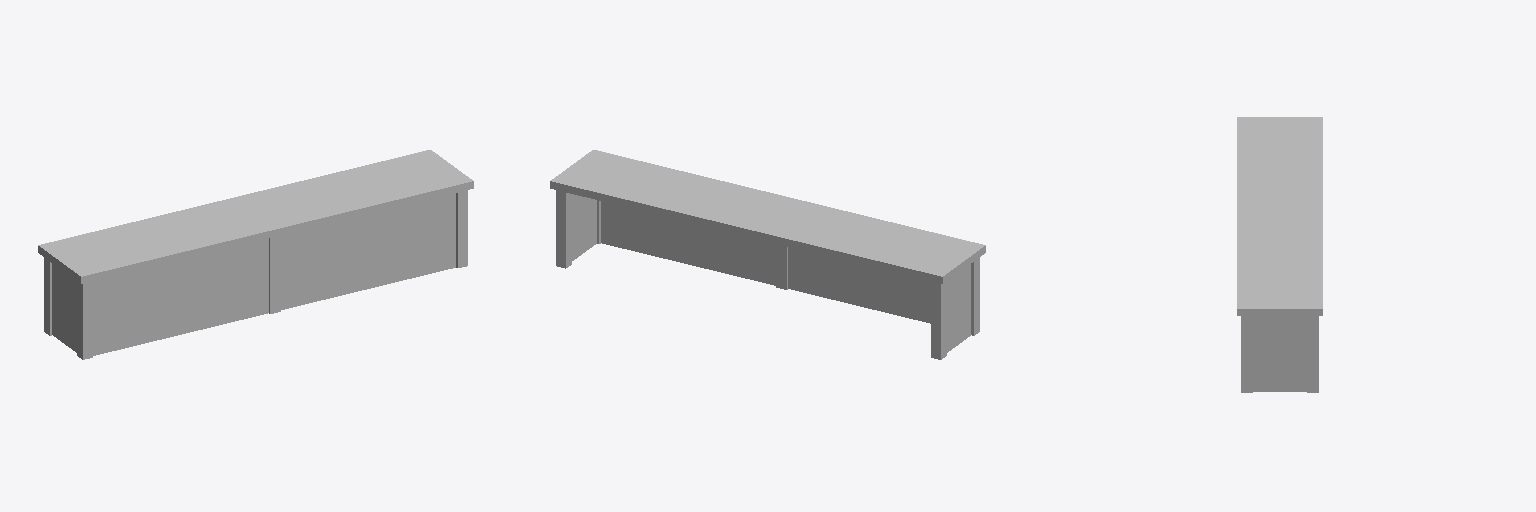
File: bar_counter_1_001.obj
The picture shows the model from 3 angles: view 1: azimuth 30°, elevation 25°; view 2: azimuth 150°, elevation 25°; view 3: azimuth 270°, elevation 25°; orthographic projection.
Visible parts, largest first — view 1: bar_counter; view 2: bar_counter; view 3: bar_counter.
Part boxes in pixels (x1,y1,x2,y2): bar_counter: (38,150,473,359); bar_counter: (550,150,985,359); bar_counter: (1237,117,1322,392).
Bounding box in the file's own units: 10.49 × 2.19 × 2.